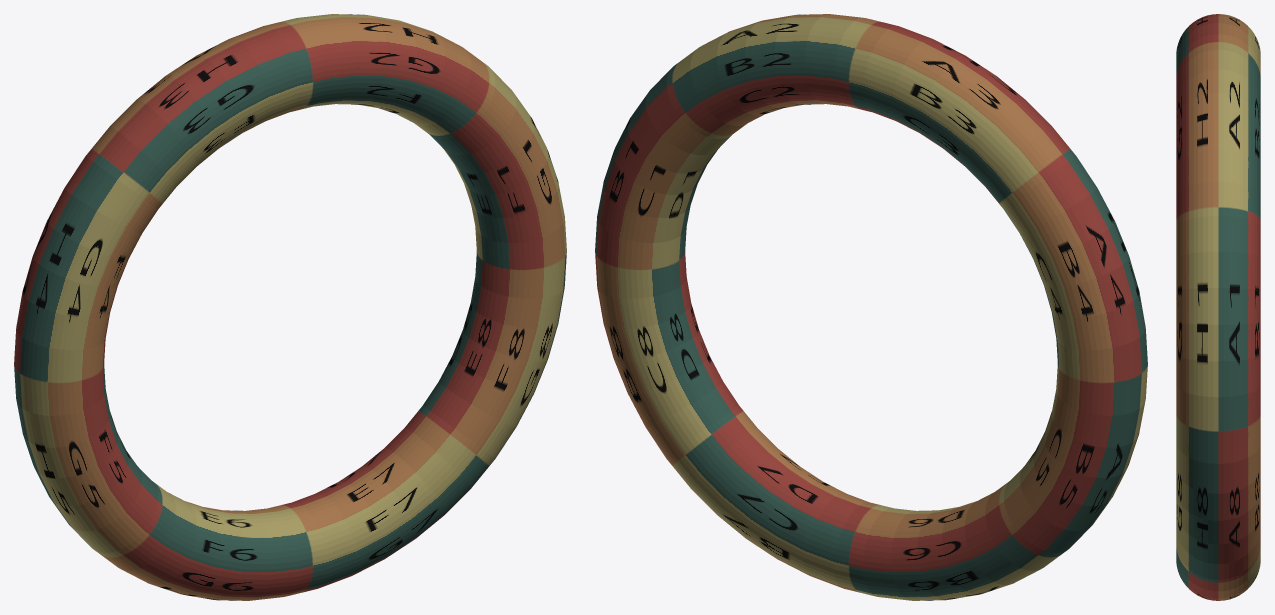
The model's file is texture_torus_R17_r6.glb.
3 views of the same model, side by side, from view 1: azimuth 30°, elevation 25°; view 2: azimuth 150°, elevation 25°; view 3: azimuth 270°, elevation 25° (orthographic). The views are drawn at different scales.
Visible parts, largest first — view 1: world; view 2: world; view 3: world.
Boxes of the visible parts, <box> form: world: <box>14,14,566,600</box>; world: <box>595,14,1147,600</box>; world: <box>1176,14,1260,600</box>.
Size of the model in its own units: 24.93 by 24.88 by 3.59.
Materials: 1 (1 with a texture image).
